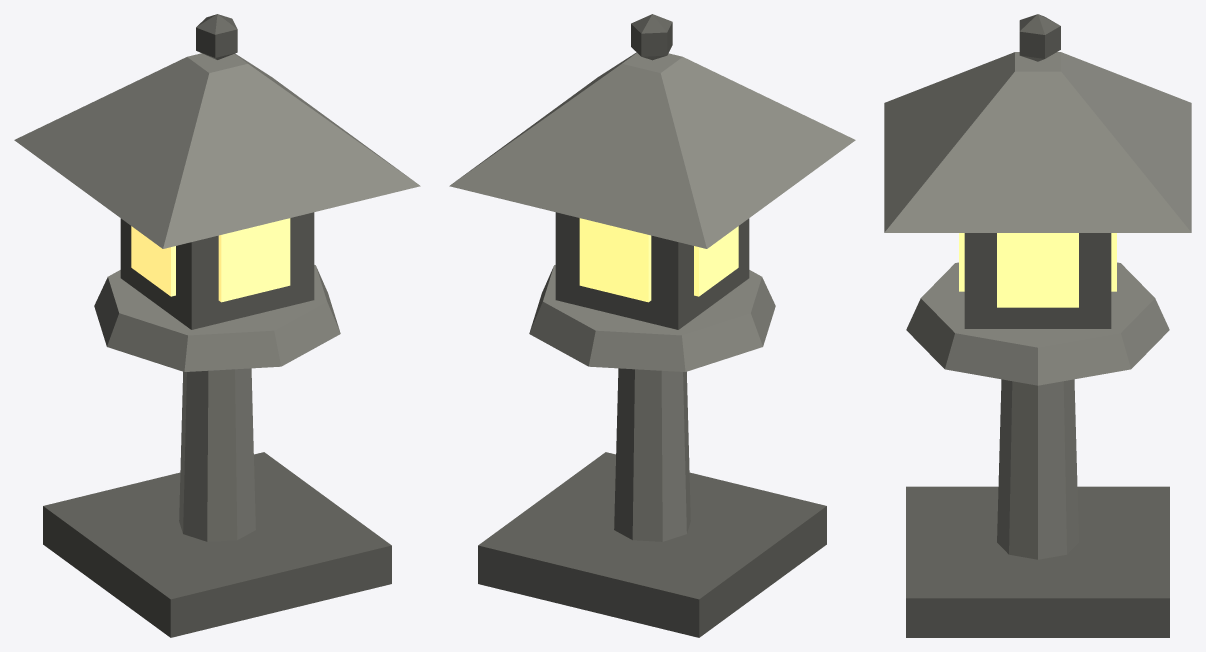
Rendered from night_stone_lantern.glb.
3 renders of one model, left to right at view 1: azimuth 30°, elevation 25°; view 2: azimuth 150°, elevation 25°; view 3: azimuth 270°, elevation 25°, orthographic. The views are drawn at different scales.
Parts seen in each view (by area): view 1: night_stone_lantern; view 2: night_stone_lantern; view 3: night_stone_lantern.
Boxes of the visible parts, bbox=[...] form: night_stone_lantern: bbox=[14, 14, 420, 637]; night_stone_lantern: bbox=[449, 14, 855, 637]; night_stone_lantern: bbox=[884, 14, 1191, 637].
Bounding box in the file's own units: 1.05 × 2.14 × 1.05.
